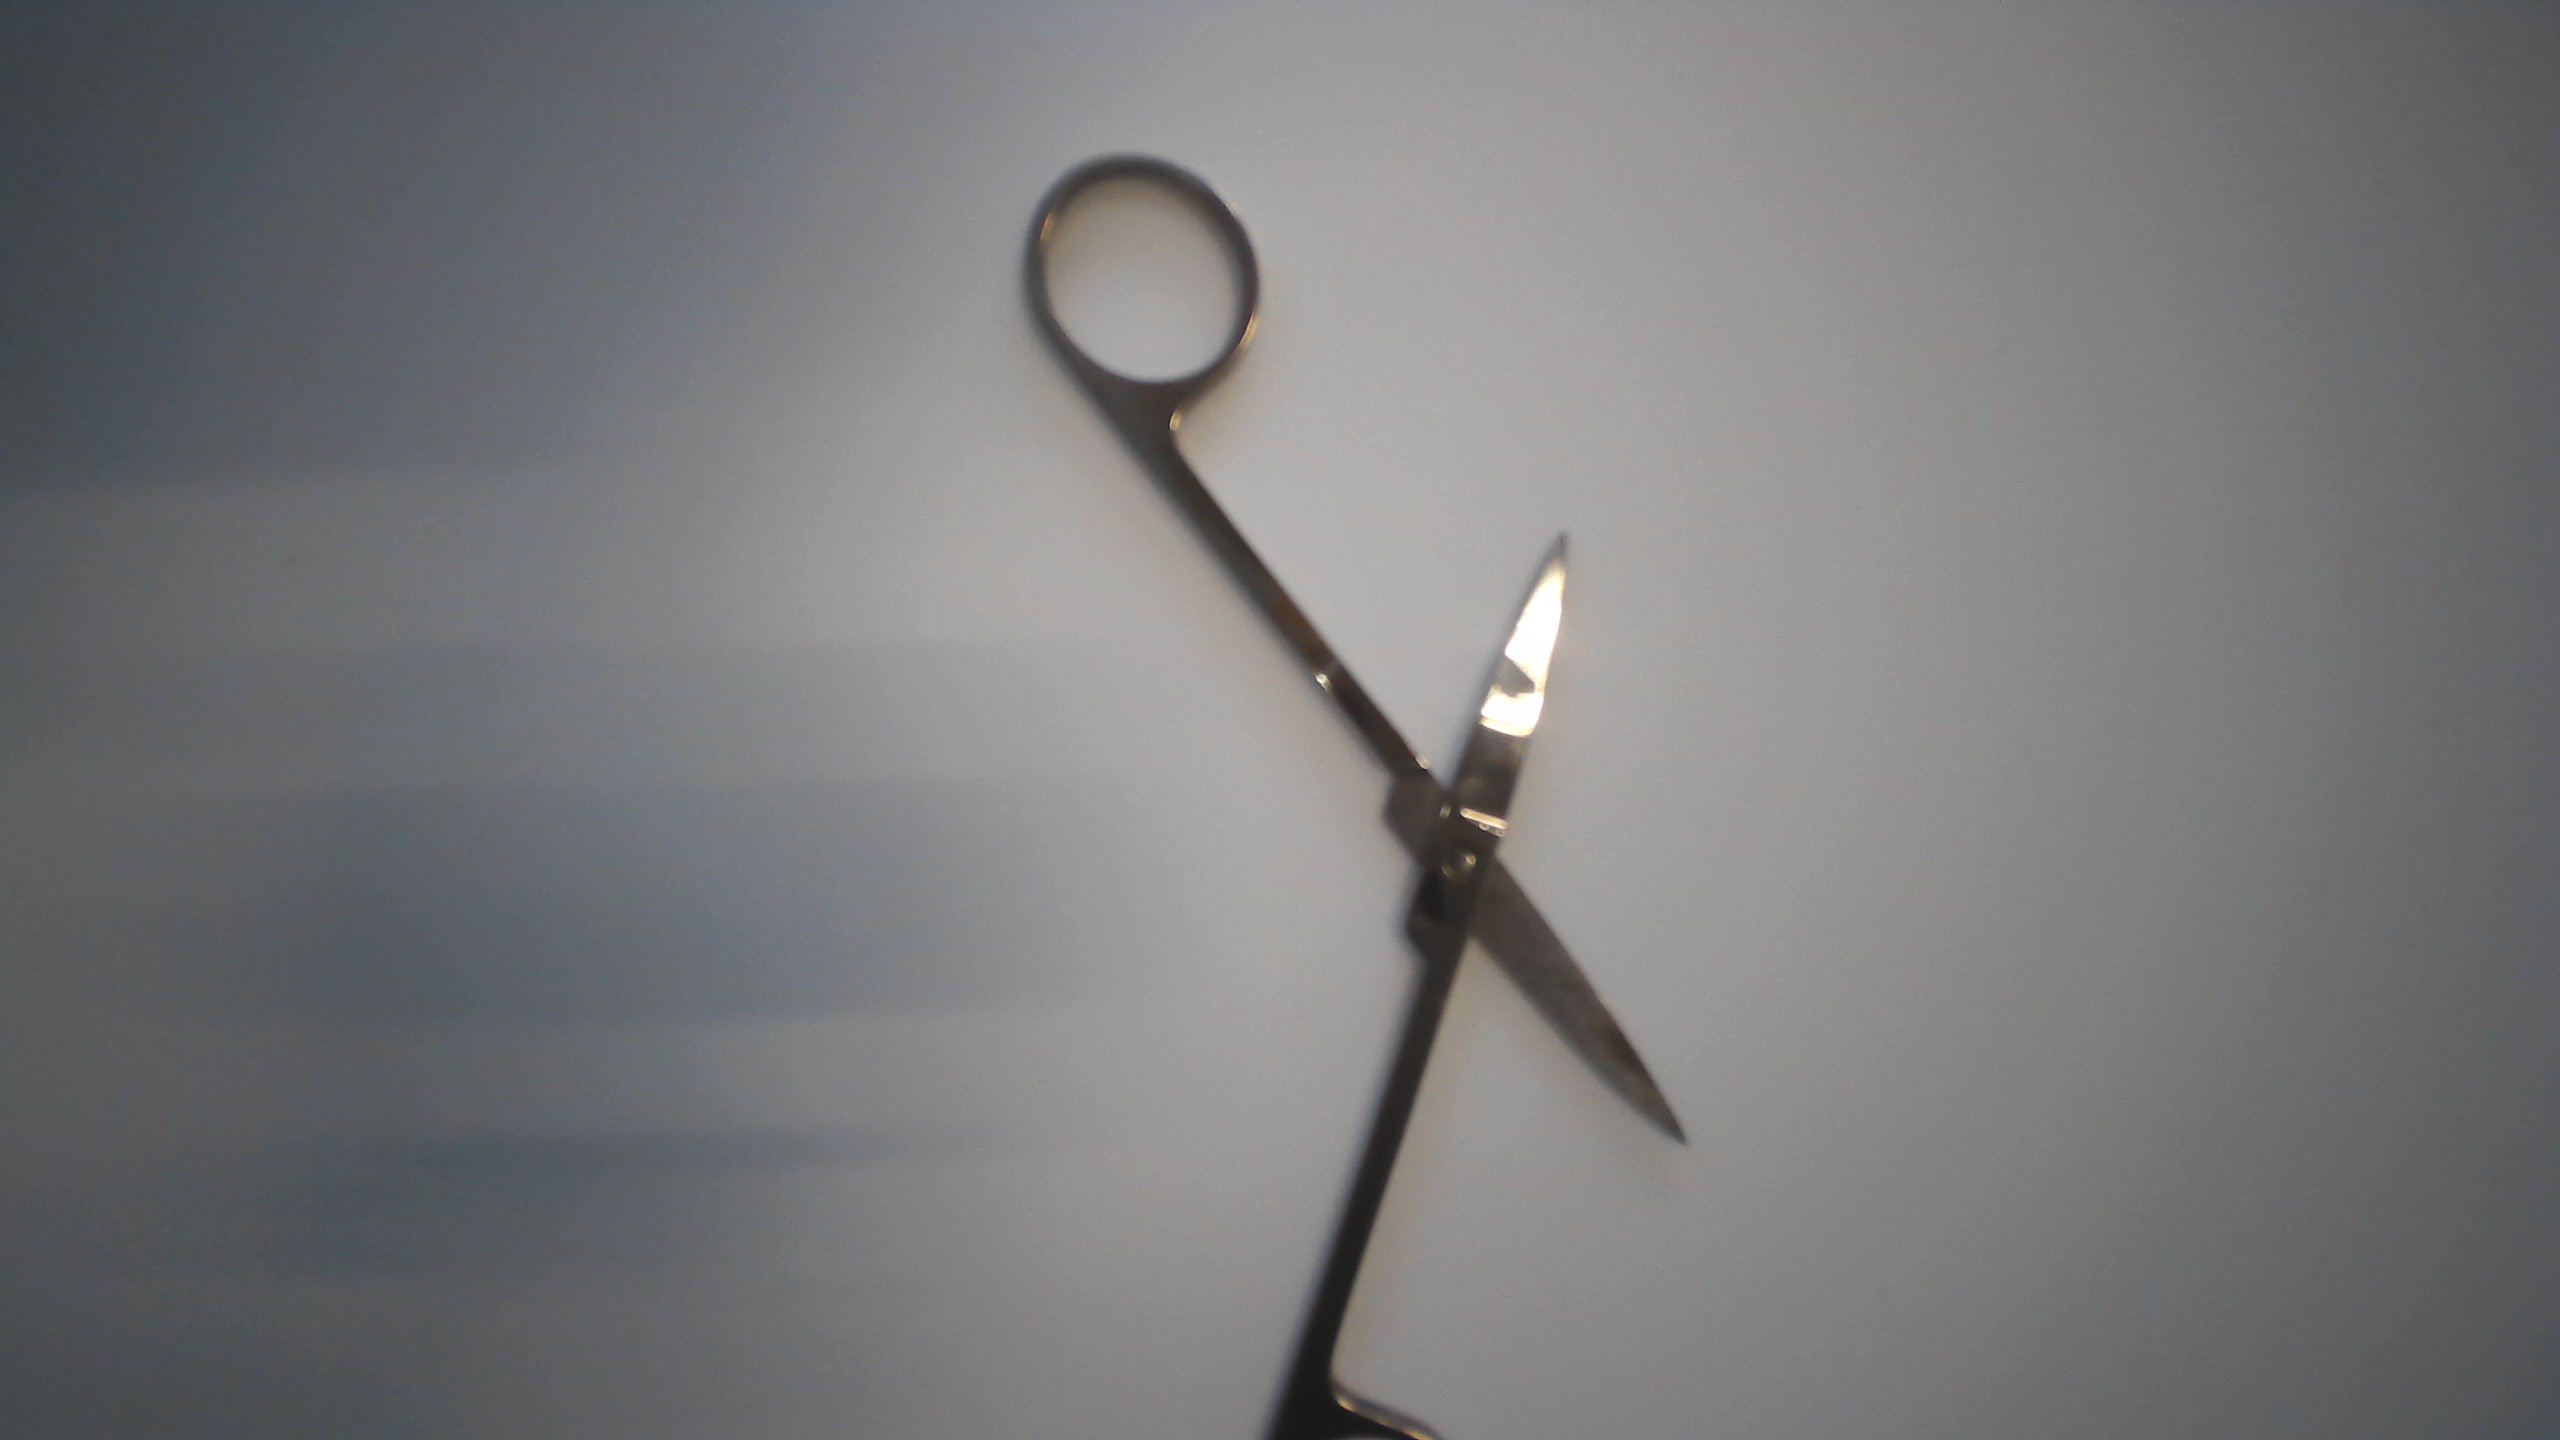Tissues: (1493, 649, 1544, 716)
